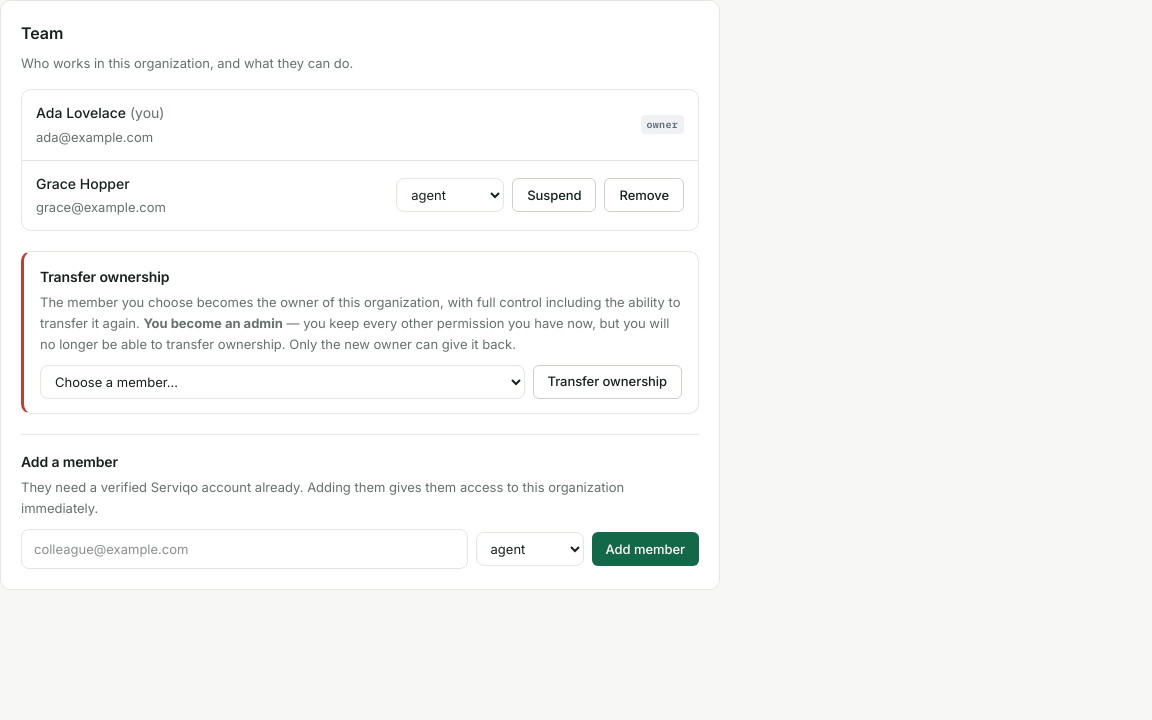
Scenario: TransferOwnership › confirmation › sends nothing when the confirmation is cancelled
Expected: the text "Grace Hopper" is shown, [36,175,130,192]
Select "Grace Hopper (agent)" in the dropdown named "new owner" below "You become an admin". click: (282, 382)
box: [40,364,524,398]
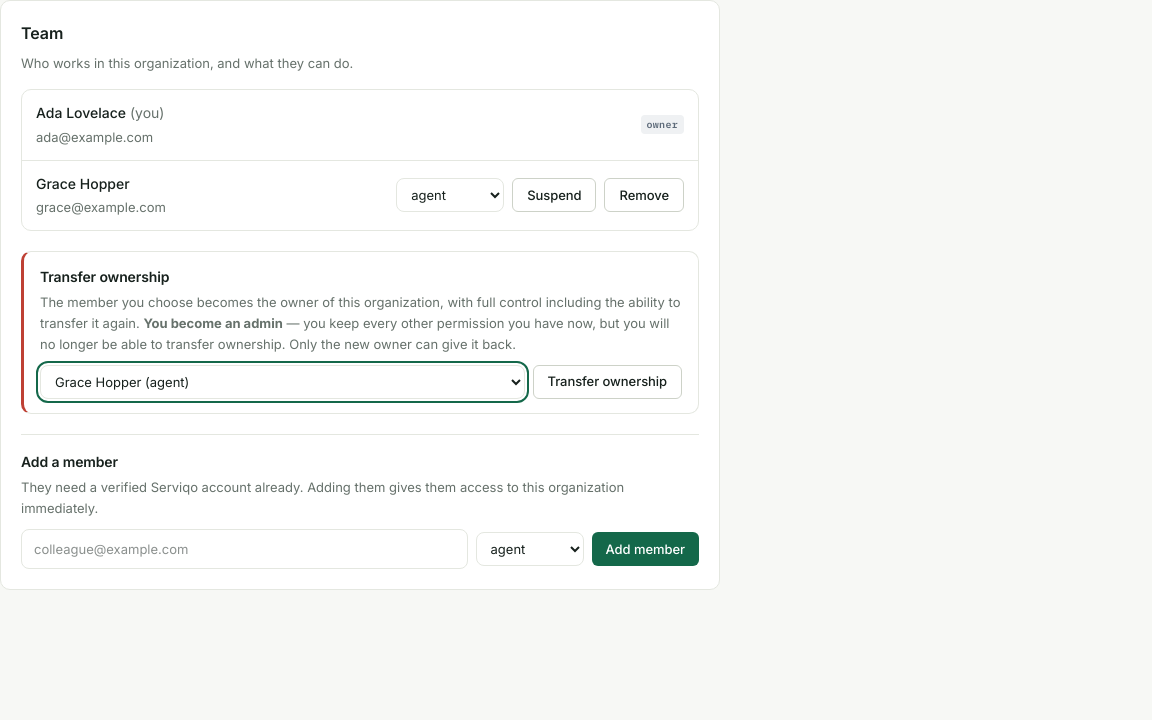
Click the button "Transfer ownership". click: (607, 382)
box: [532,364,682,398]
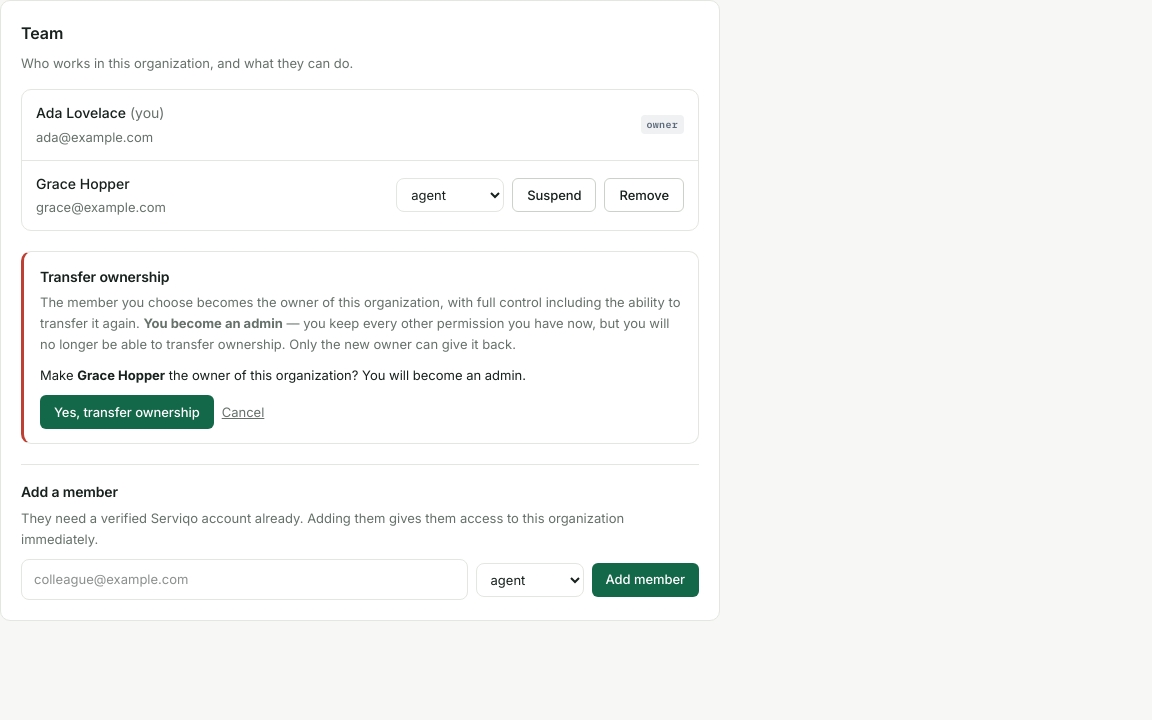
Click the button "Cancel". click: (243, 412)
box: [222,402,264,423]
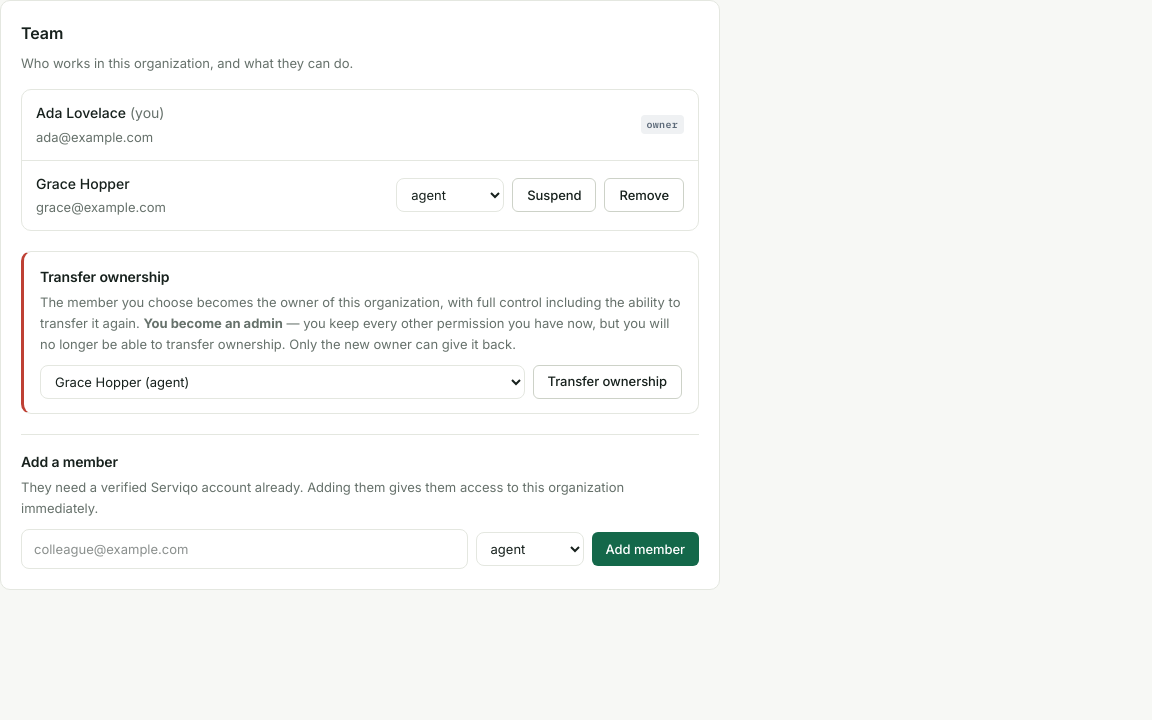
Now the dropdown named "new owner" below "You become an admin" shows "Grace Hopper (agent)", box [40,364,524,398]
